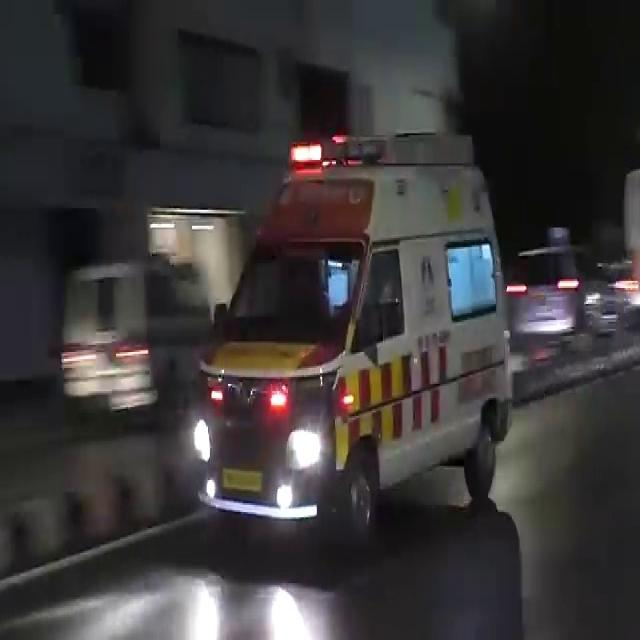ambulance: (197, 153, 518, 515)
